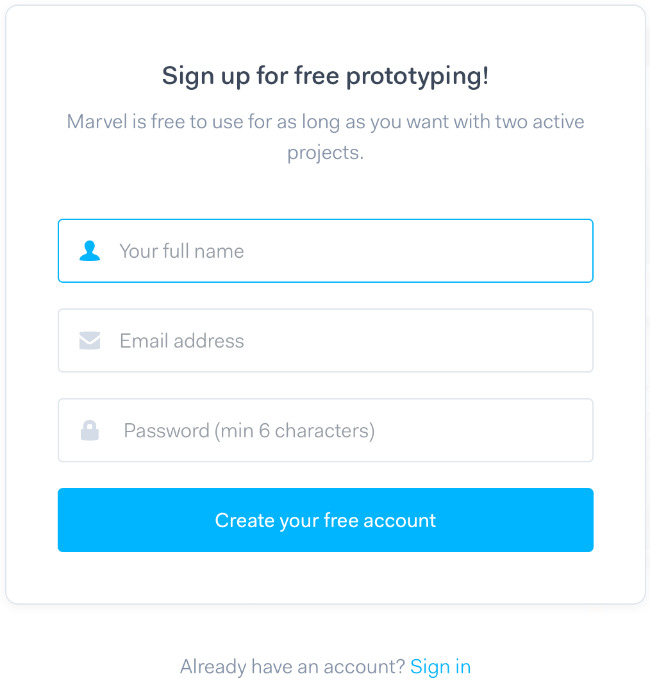_form_: (44, 195, 607, 571)
button: (56, 487, 596, 553)
field: (57, 217, 594, 285), (57, 308, 595, 374), (57, 397, 595, 463)
